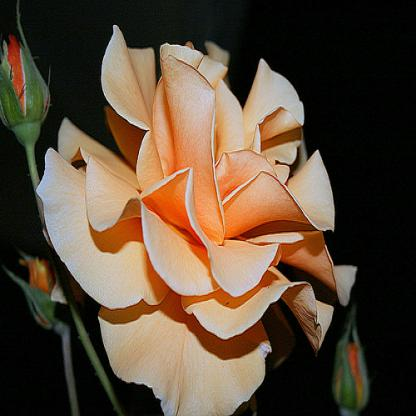ROSE-MAWAR: (34, 12, 359, 416)
